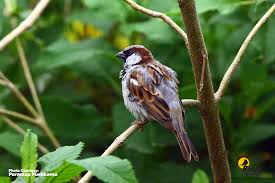hsparrow: (109, 41, 210, 163)
